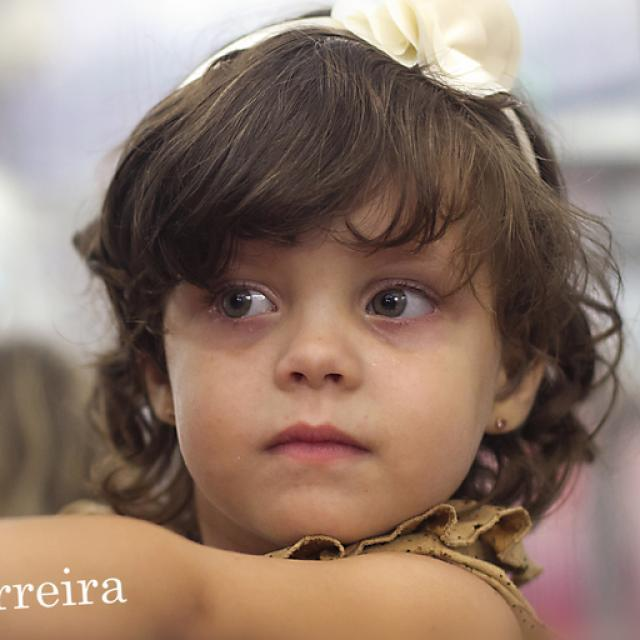surprise: (159, 155, 496, 549)
